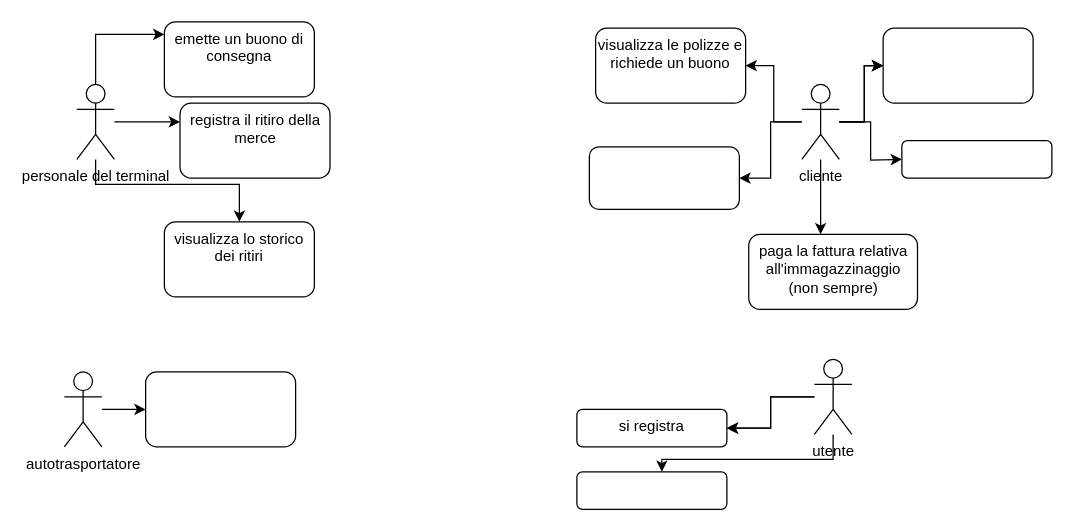
This 1074x531 diagram has some shape labels left out. Each missing label, with the centre of its shape:
associa un ritirante a un camion: (x=663, y=177)
registra un camion: (x=976, y=158)
si autentica: (x=651, y=490)
visualizza il buono di consegna: (x=220, y=409)
visualizza lo stato delle richieste buoni: (x=957, y=65)
